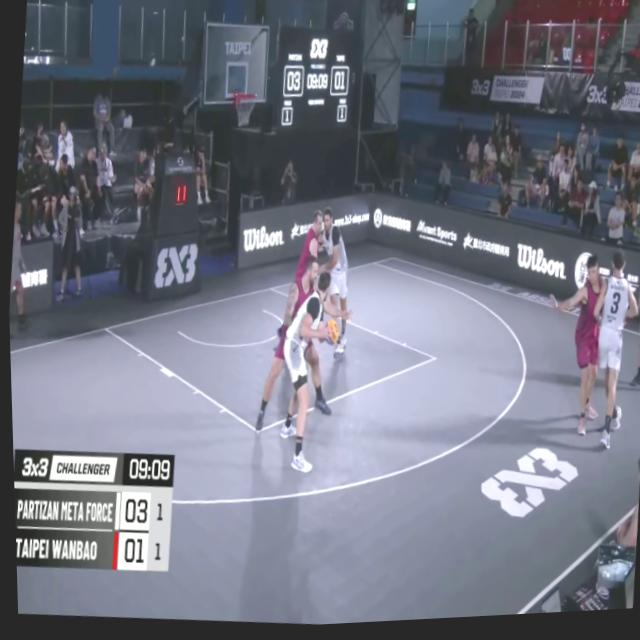ball: (317, 318, 339, 352)
hoop: (230, 91, 257, 132)
player: (247, 252, 343, 442), (268, 271, 336, 484), (531, 256, 606, 446), (578, 255, 640, 460), (272, 211, 338, 361), (305, 206, 357, 359)
